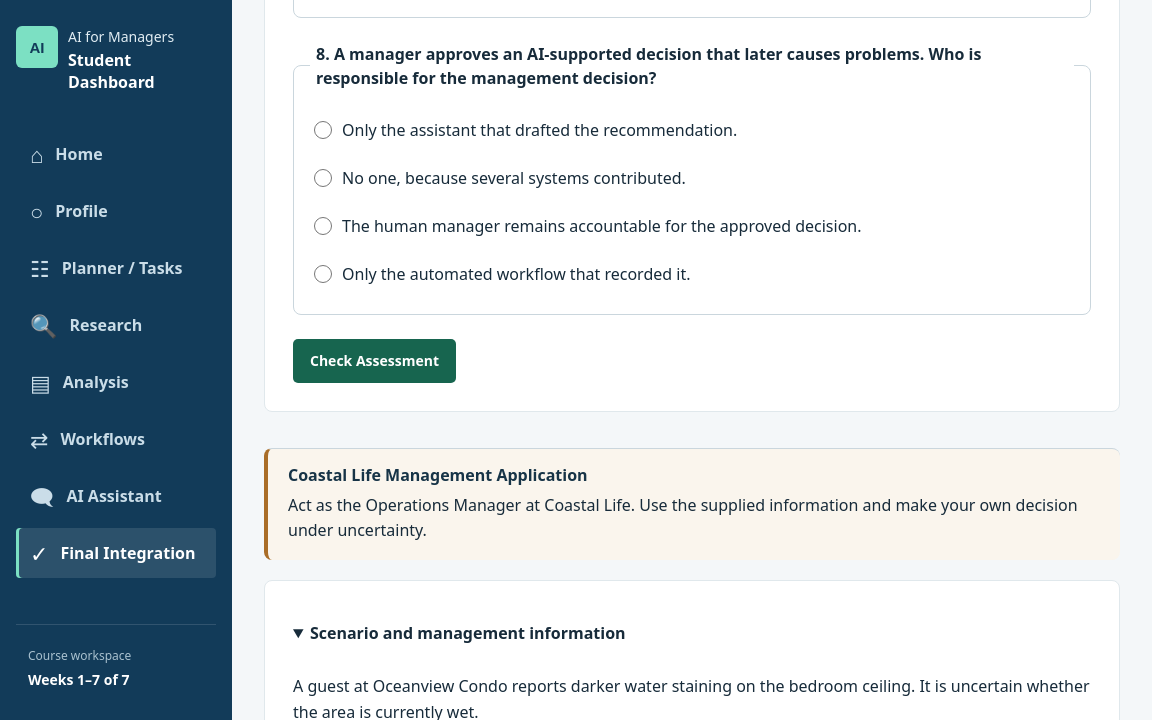
Test: adds one final navigation destination, all eight four-choice questions, progress, and separate workspaces
This screenshot has width=1152, height=720.
(page scrolled)
expect the text "🗨" is shown: met, box [30,485,54,507]
expect the text "✓" is shown: met, box [30,542,48,564]
What coordinates should you click on to do the following:
click the button "Check Assessment"
I would click on:
 (374, 361)
Its box is [293,339,456,383].
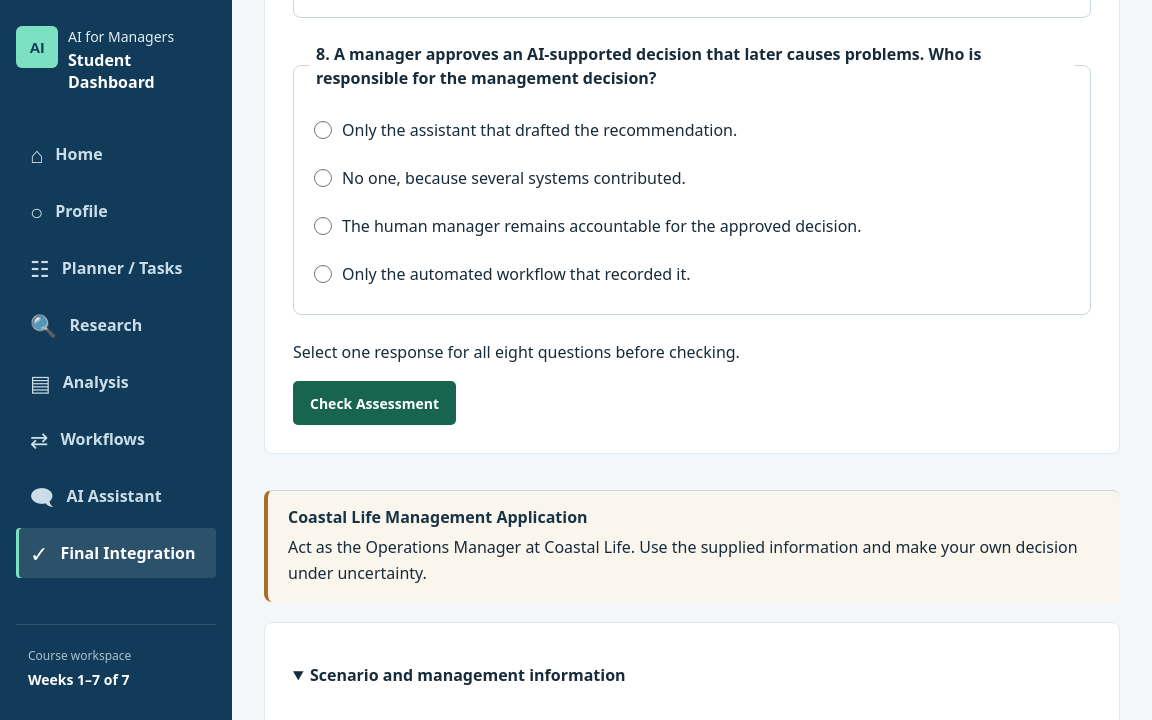
expect the message reads "Select one response for all eight questions before checking.": met, box [293,341,740,363]
